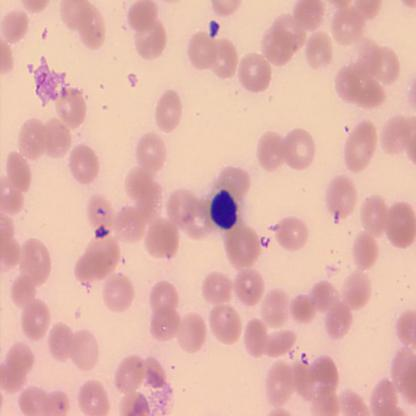NRC: (209, 188, 239, 231)
